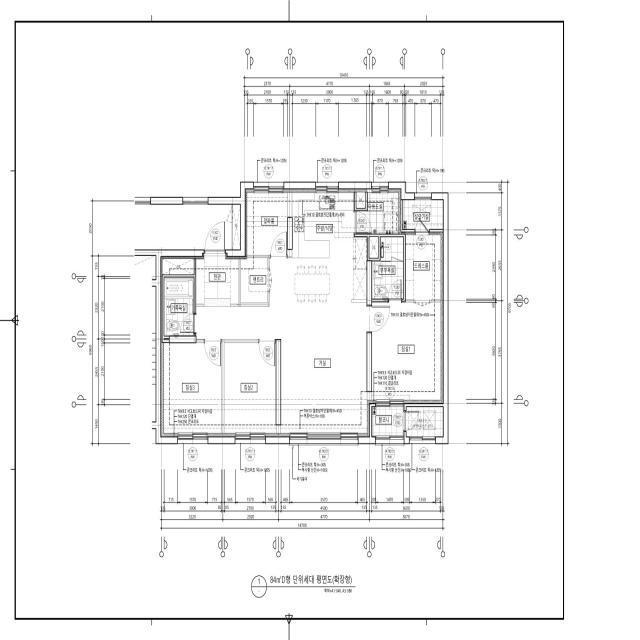space_balconi: (372, 407, 403, 436)
space_bedroom: (372, 302, 443, 403), (161, 343, 222, 437), (224, 343, 276, 437)
space_dressroom: (406, 231, 443, 300)
space_front: (196, 253, 239, 307)
space_kitchen: (269, 189, 367, 307)
space_living_room: (196, 307, 369, 437)
space_multipurpose_space: (356, 189, 401, 234)
space_other: (134, 204, 232, 249), (245, 189, 287, 255), (241, 257, 268, 303), (406, 407, 443, 437), (161, 257, 194, 275), (232, 205, 240, 250), (369, 237, 378, 258), (356, 189, 365, 208)
space_outdoor_room: (403, 200, 443, 232)
space_toilet: (372, 237, 403, 299), (164, 278, 194, 336)
